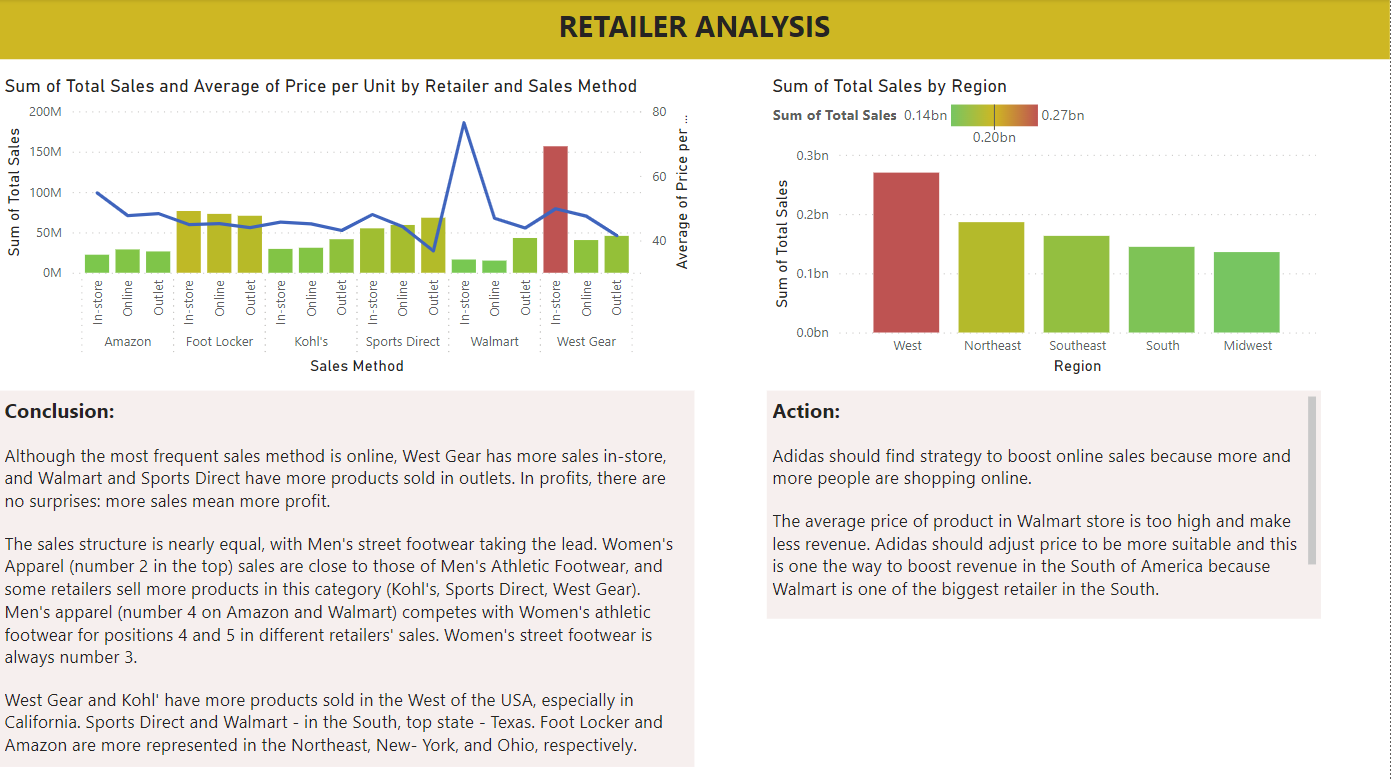

The page's visual inventory and layout, read from the dashboard file:
{"tool":"powerbi","page":{"name":"RETAIL ANALYSIS","canvas":[1280,720],"ordinal":2},"visuals":[{"type":"lineClusteredColumnComboChart","fields":{"Category":["Data Sales Adidas.Retailer","Data Sales Adidas.Sales Method"],"Y":["Sum(Data Sales Adidas.Total Sales)"],"Y2":["Avg(Data Sales Adidas.Price per Unit)"]},"box":[0,70,640,280],"z":0},{"type":"textbox","box":[0,0,1280,55],"z":1000},{"type":"clusteredColumnChart","fields":{"Category":["Data Sales Adidas.Region"],"Y":["Sum(Data Sales Adidas.Total Sales)"]},"box":[706.7,70,510,280],"z":2000},{"type":"textbox","box":[0,360,640,346.2],"z":3000},{"type":"textbox","box":[706.2,360,510,210],"z":4000}]}

Visuals, with their boxes in screenshot pixels (x1, y1, x2, y2), scaled from the page's 1280x720 canvas onto the 1391x781 screenshot:
lineClusteredColumnComboChart - Data Sales Adidas.Retailer x Data Sales Adidas.Sales Method: 0/76/696/380
textbox: 0/0/1390/60
clusteredColumnChart - Data Sales Adidas.Region x Sum(Data Sales Adidas.Total Sales): 768/76/1322/380
textbox: 0/390/696/766
textbox: 767/390/1322/618
